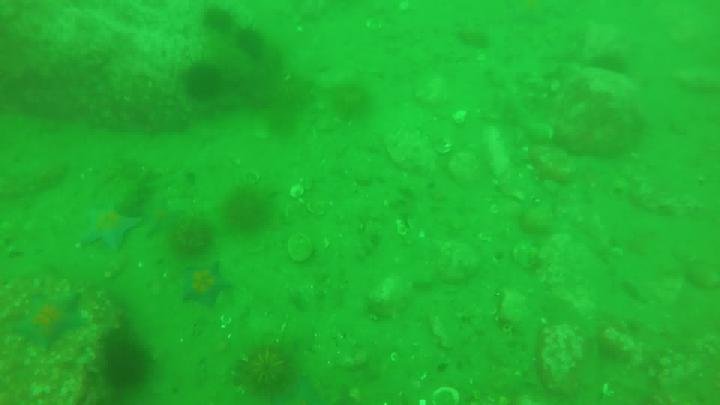echinus: (102, 329, 152, 397), (171, 212, 220, 258), (250, 348, 296, 395), (184, 61, 227, 99), (236, 25, 268, 57), (203, 7, 233, 31)
scallop: (287, 233, 313, 265), (513, 243, 539, 271), (433, 389, 462, 405), (364, 17, 388, 34), (433, 138, 453, 157), (243, 172, 263, 185), (291, 187, 306, 199)
starfish: (12, 292, 92, 348), (82, 203, 143, 252), (179, 262, 235, 307)
